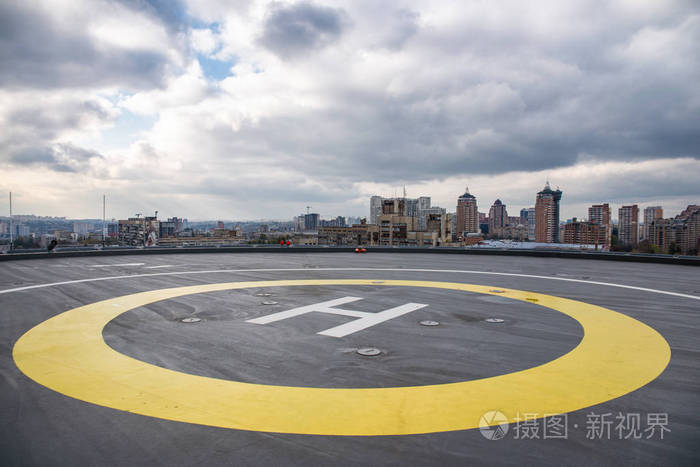H: (246, 296, 430, 339)
